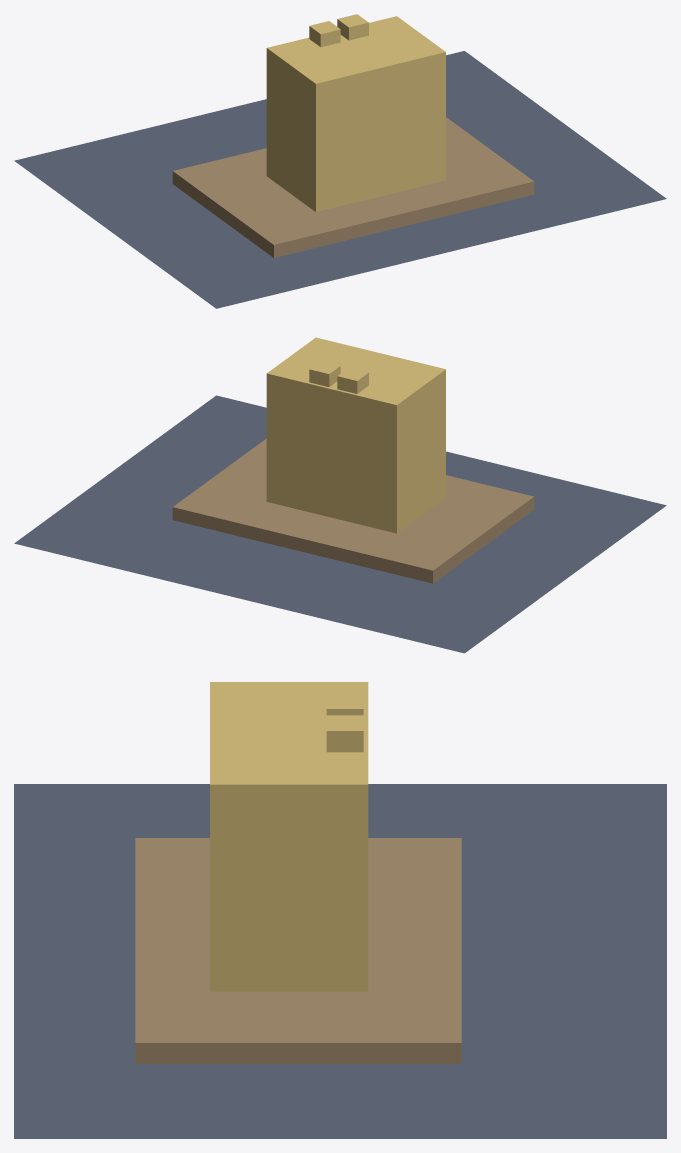
File: world.glb
3 renders of one model, top to bottom at view 1: azimuth 30°, elevation 25°; view 2: azimuth 150°, elevation 25°; view 3: azimuth 270°, elevation 25°, orthographic. The views are drawn at different scales.
Visible parts, largest first — view 1: clock_opaque_mesh; view 2: clock_opaque_mesh; view 3: clock_opaque_mesh.
Boxes of the visible parts, <box> form: clock_opaque_mesh: <box>14,14,666,308</box>; clock_opaque_mesh: <box>14,337,666,653</box>; clock_opaque_mesh: <box>14,682,666,1138</box>.
Size of the model in its own units: 9 by 2.95 by 7.
